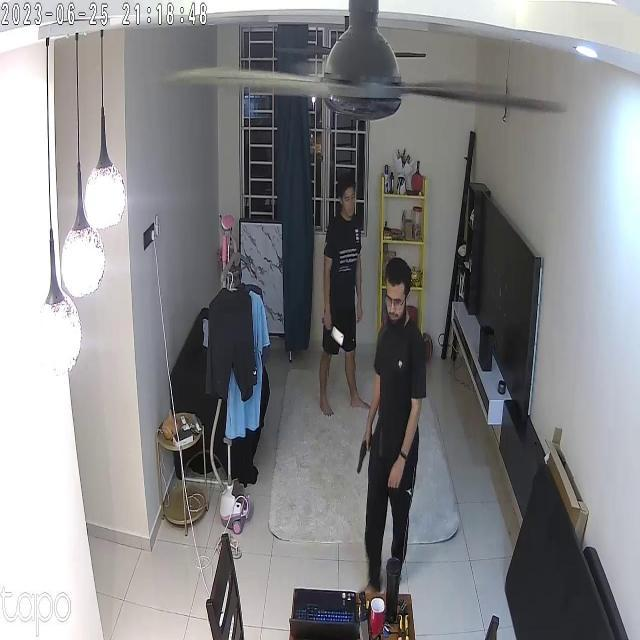Gun: (355, 434, 377, 483)
Knife: (316, 313, 353, 352)
